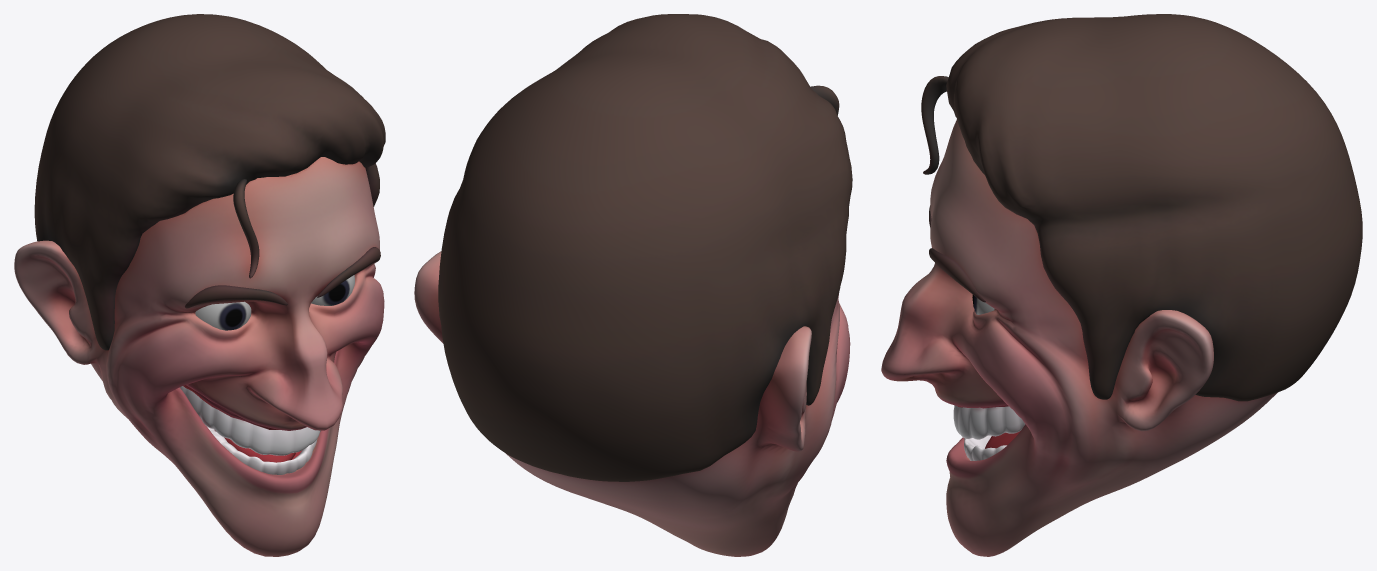
3 views of the same model, side by side, from view 1: azimuth 30°, elevation 25°; view 2: azimuth 150°, elevation 25°; view 3: azimuth 270°, elevation 25° (orthographic). The views are drawn at different scales.
Visible parts, largest first — view 1: Head, Eyes; view 2: Head; view 3: Head.
Part boxes in pixels (left/top/right/bottom): Head: left=14, top=14, right=385, bottom=556; Eyes: left=195, top=275, right=354, bottom=330; Head: left=414, top=14, right=852, bottom=556; Head: left=881, top=14, right=1362, bottom=556.
Size of the model in its own units: 1.84 by 2.47 by 2.07.
2 materials, 2 textured.
